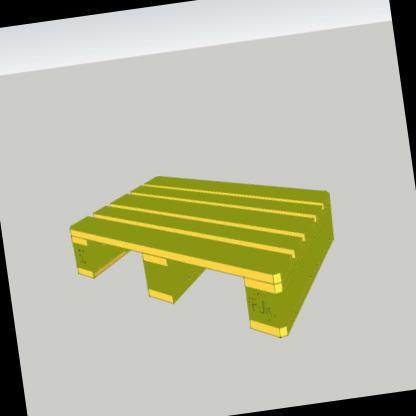BoxFace: (65, 167, 337, 344)
